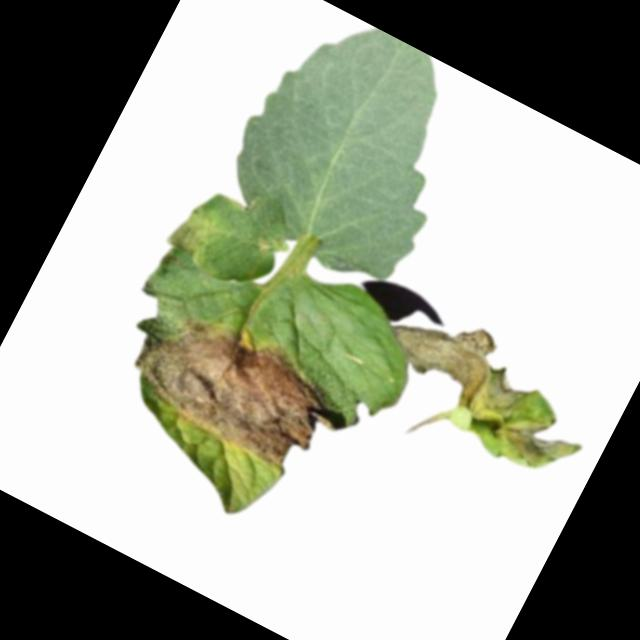Late_blight: (118, 290, 364, 491), (361, 292, 607, 489), (161, 196, 233, 273)
healthy: (202, 1, 493, 298)
